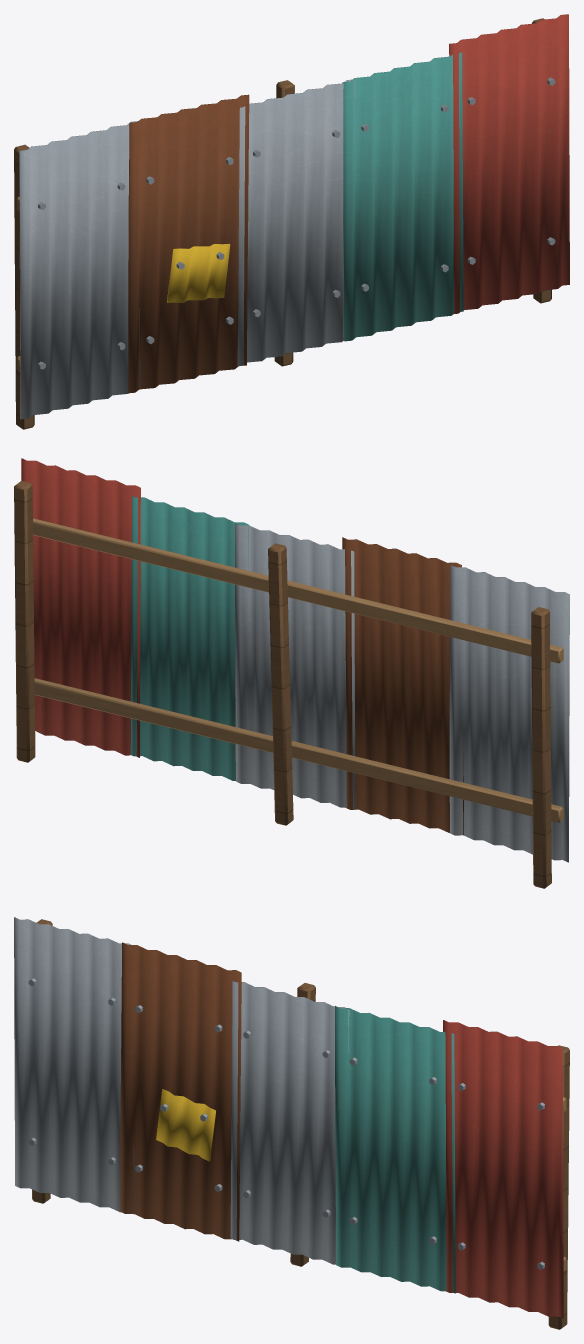
The model's file is sheet_metal_fence.glb.
The picture shows the model from 3 angles, top to bottom: view 1: azimuth 30°, elevation 25°; view 2: azimuth 150°, elevation 25°; view 3: azimuth 330°, elevation 25°; orthographic projection.
Visible parts, largest first — view 1: sheet_metal_fence; view 2: sheet_metal_fence; view 3: sheet_metal_fence.
Part boxes in pixels (box(x1,y1,x2,y2)): sheet_metal_fence: box(14, 14, 569, 429); sheet_metal_fence: box(14, 458, 569, 888); sheet_metal_fence: box(14, 917, 569, 1329).
Size of the model in its own units: 4.15 by 2.09 by 0.3101.
8 materials, 8 textured.
